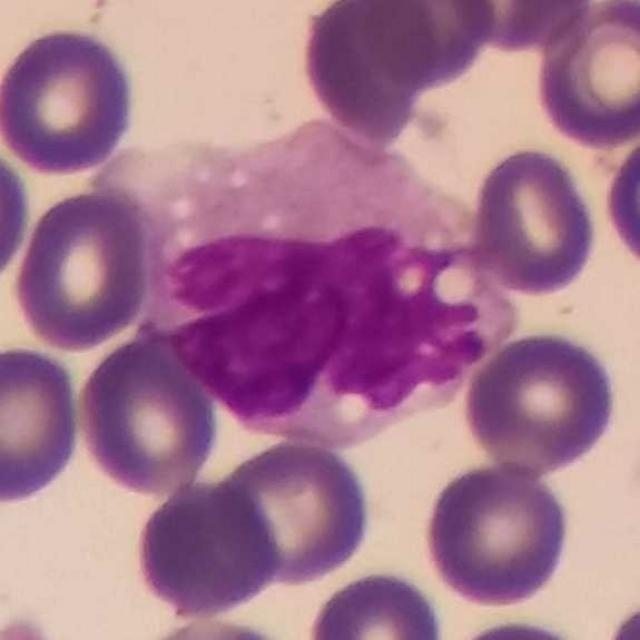Monocyte: (99, 120, 522, 442)
RBC: (72, 323, 223, 497), (206, 435, 376, 587), (458, 325, 624, 474), (9, 184, 155, 352), (418, 456, 576, 611), (129, 475, 285, 621), (0, 22, 141, 178), (465, 142, 602, 298), (294, 0, 437, 141), (531, 1, 640, 149), (0, 340, 87, 511), (350, 0, 501, 90), (303, 566, 448, 640), (443, 0, 597, 55), (600, 119, 640, 279), (124, 611, 312, 640), (0, 139, 33, 293), (456, 609, 577, 640), (597, 591, 640, 639)
